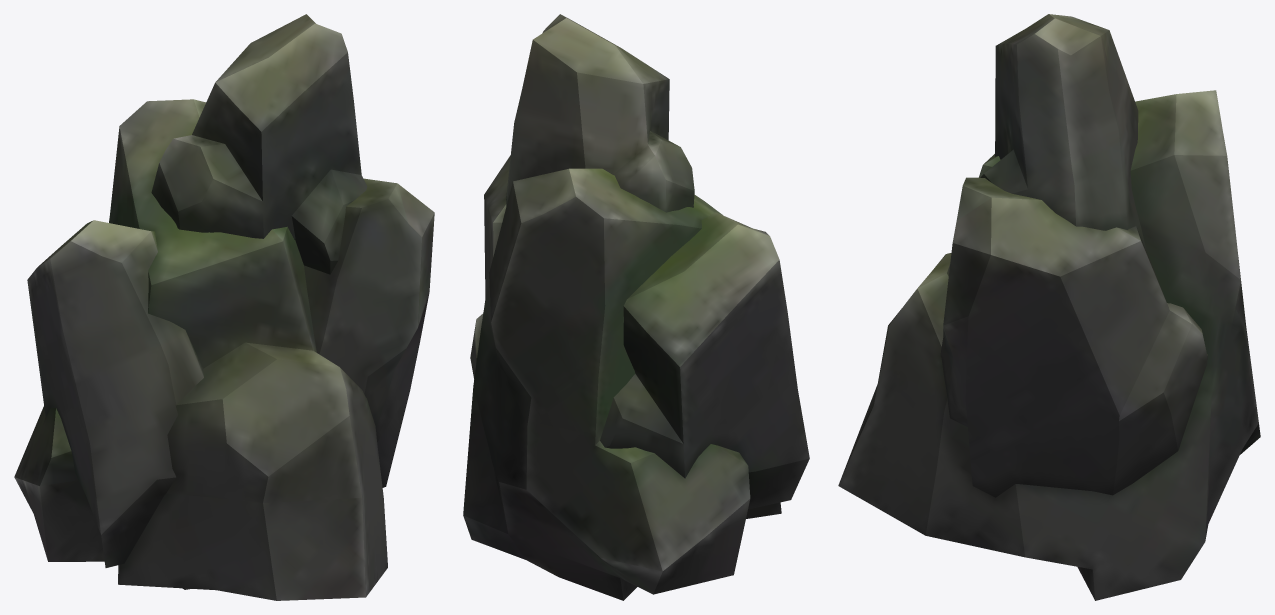
File: rock_3.glb
3 views of the same model, side by side, from view 1: azimuth 30°, elevation 25°; view 2: azimuth 150°, elevation 25°; view 3: azimuth 270°, elevation 25° (orthographic). The views are drawn at different scales.
Parts seen in each view (by area): view 1: Rock_3; view 2: Rock_3; view 3: Rock_3.
Part boxes in pixels (x1,y1,x2,y2): Rock_3: (14,14,434,600); Rock_3: (463,14,809,600); Rock_3: (838,14,1260,600).
Size of the model in its own units: 0.8436 by 1.31 by 0.8972.
Materials: 1 (1 with a texture image).
